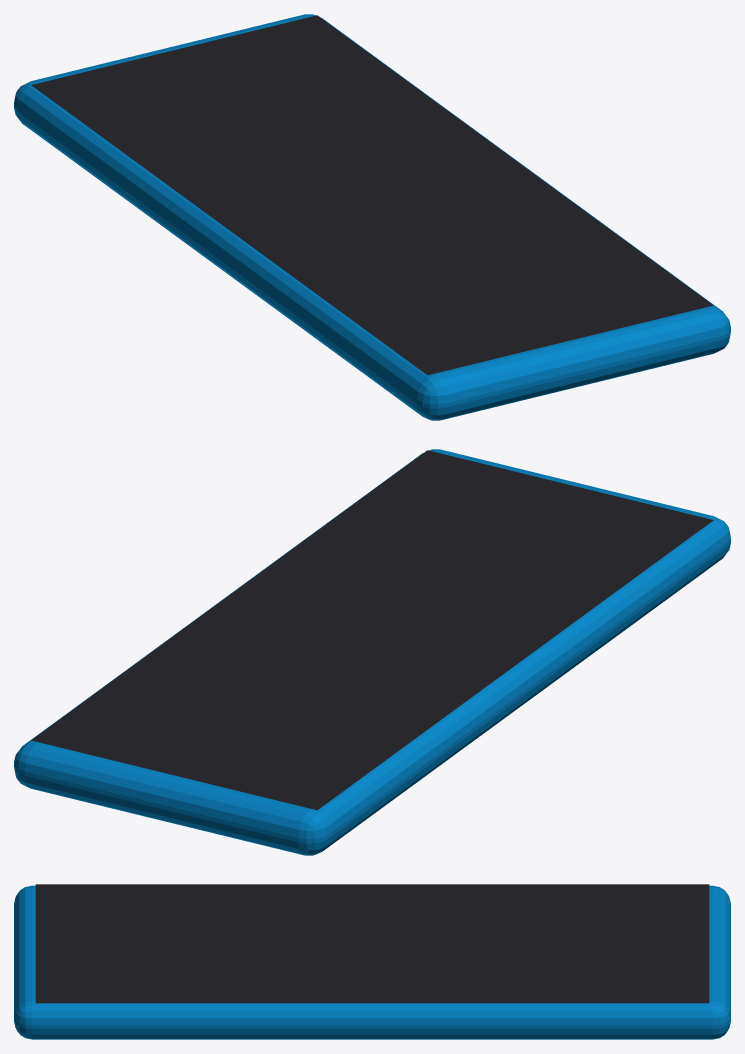
The model's file is realme-gen-2025-flagship-2025.glb.
3 views of the same model, one above another, from view 1: azimuth 30°, elevation 25°; view 2: azimuth 150°, elevation 25°; view 3: azimuth 270°, elevation 25° (orthographic). The views are drawn at different scales.
Visible parts, largest first — view 1: Phone_Screen, Phone_Body; view 2: Phone_Screen, Phone_Body; view 3: Phone_Screen, Phone_Body.
Part boxes in pixels (box(x1,y1,x2,y2)): Phone_Screen: box(31, 15, 713, 375); Phone_Body: box(14, 14, 730, 420); Phone_Screen: box(31, 450, 713, 810); Phone_Body: box(14, 449, 730, 855); Phone_Screen: box(35, 884, 709, 1003); Phone_Body: box(14, 885, 730, 1039).
Bounding box in the file's own units: 0.0712 × 0.0096 × 0.1671.
